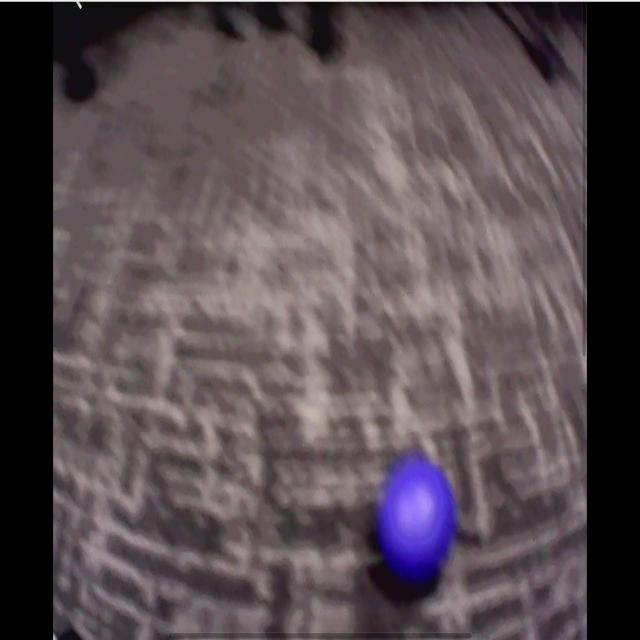ball: (378, 452, 459, 585)
